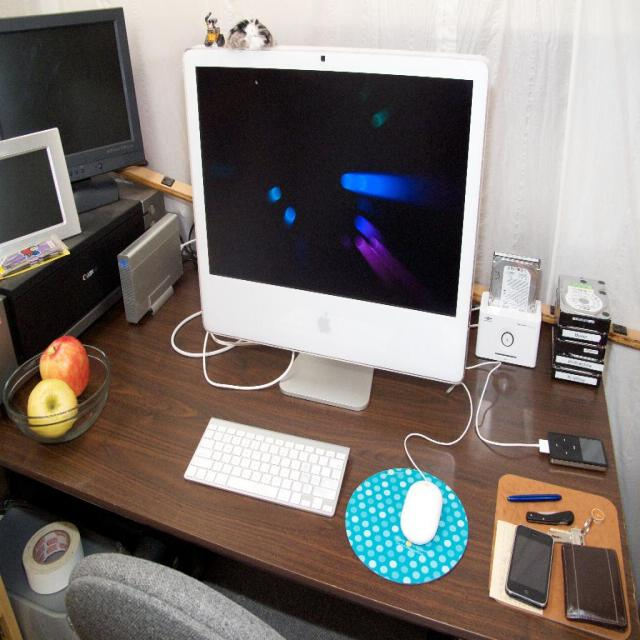Computer-mouse: (400, 479, 442, 543)
